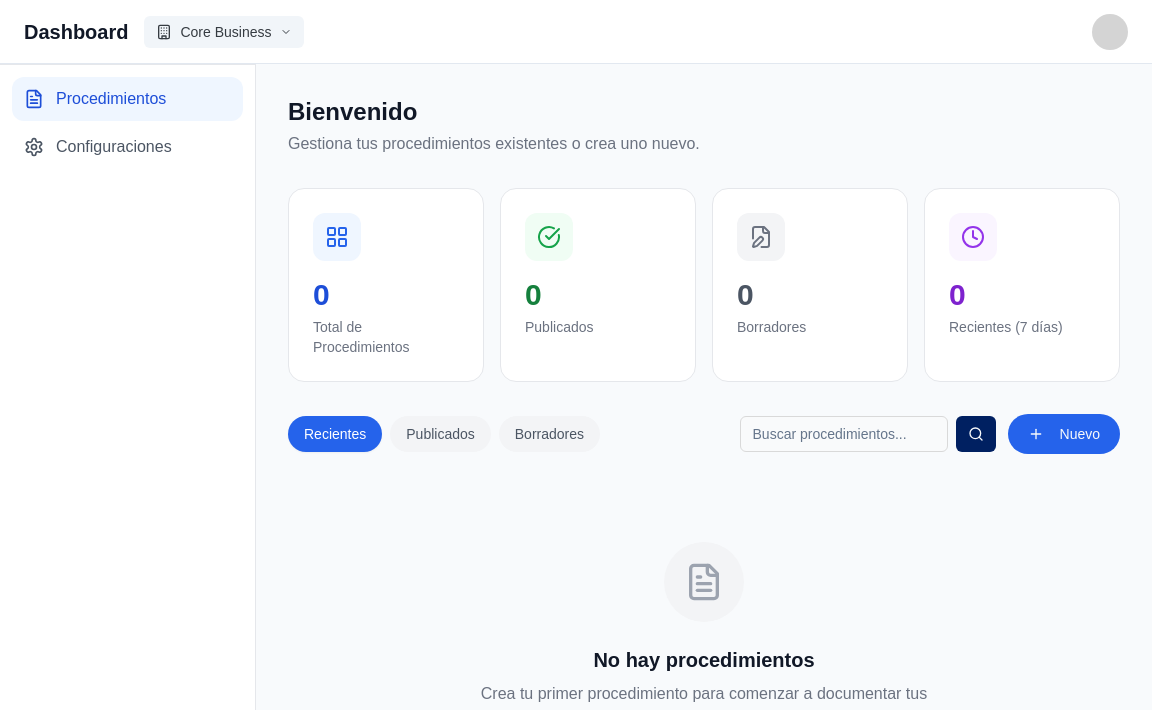
Workspace Selector › should close dropdown when selecting same workspace
Click the element with test id "workspace-selector" at (225, 32), box [145,16,304,48]
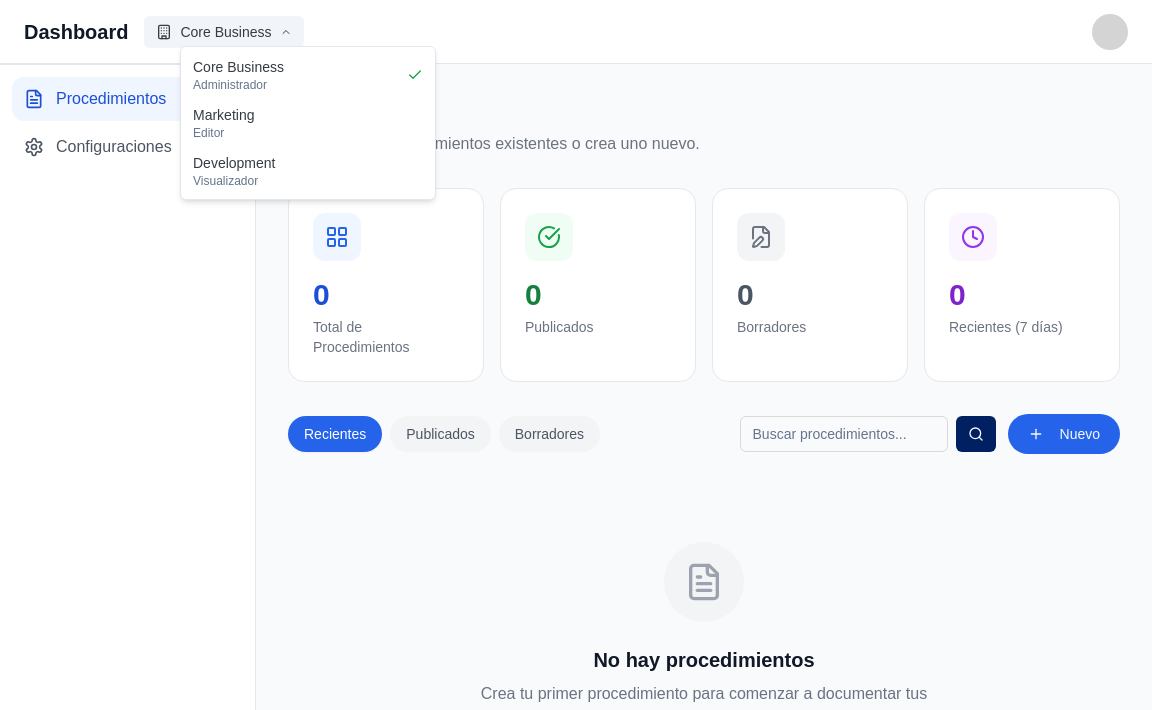
# Seleccionar el mismo workspace
Click the menu item "Core Business Administrador" at (239, 67), box [185,51,431,99]
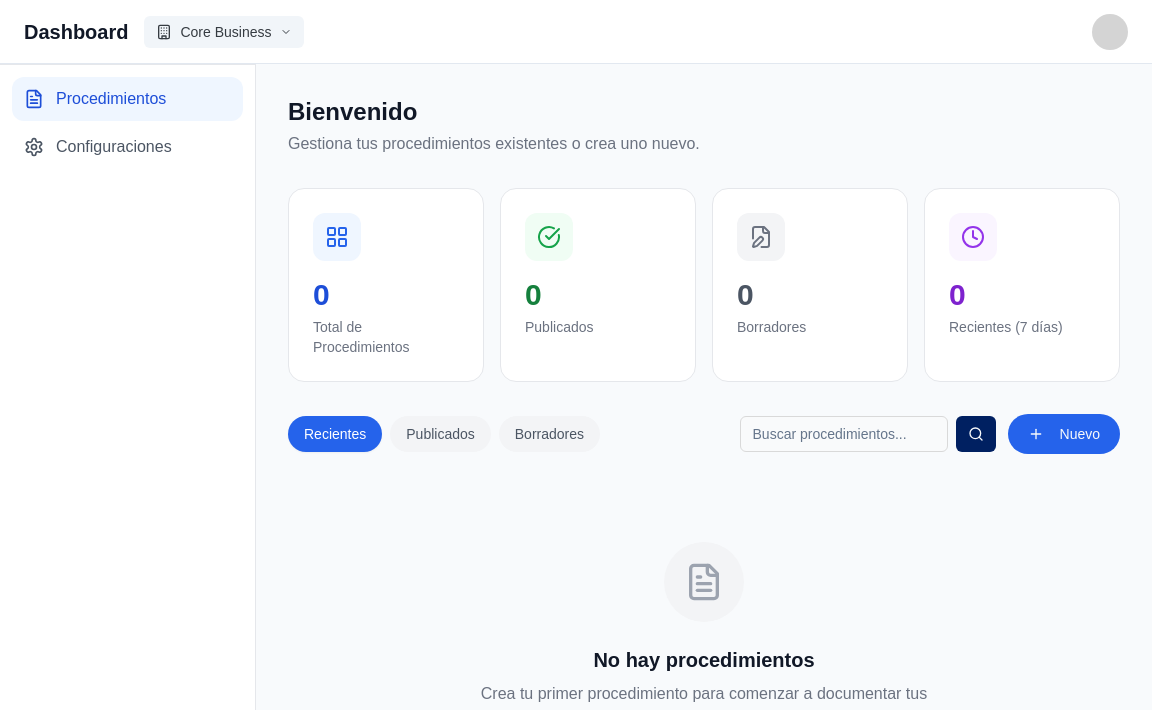
Expected: the menu is gone
